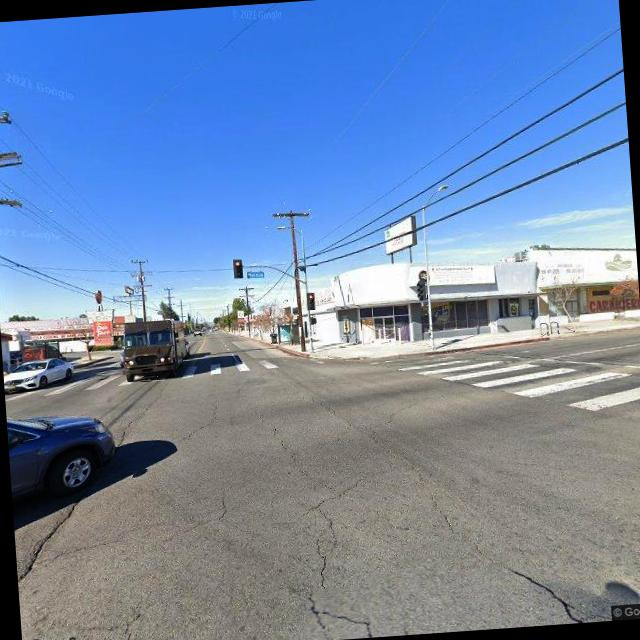pothole: (320, 377, 577, 632), (247, 393, 364, 640), (6, 405, 149, 590), (172, 401, 218, 444)
